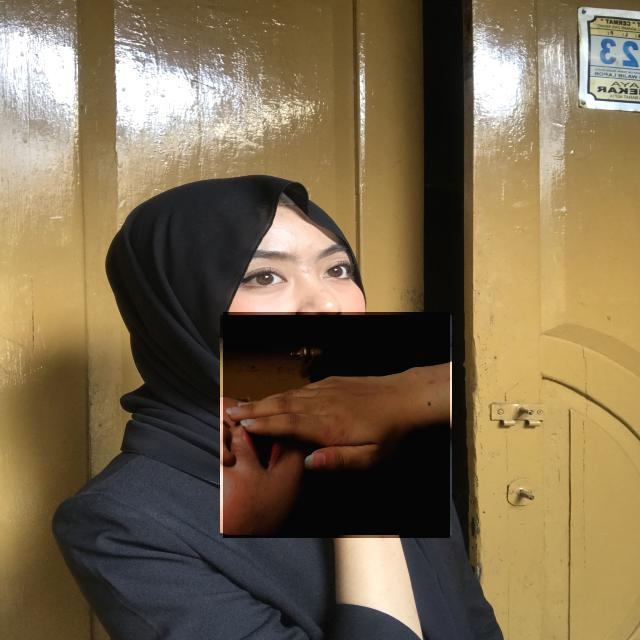ngantuk: (223, 312, 450, 538)
